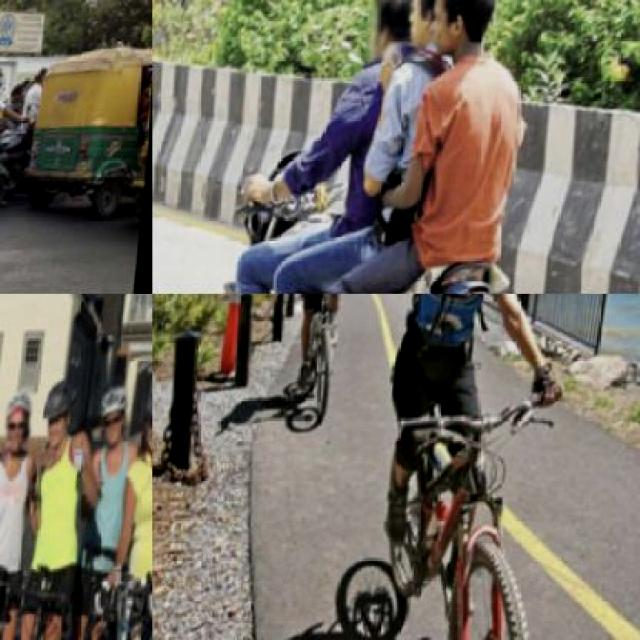With Helmet: (34, 378, 84, 460), (92, 389, 138, 465), (1, 388, 38, 460), (142, 384, 150, 482)
Without Helmet: (428, 0, 498, 69), (364, 0, 426, 72), (406, 0, 454, 60)
